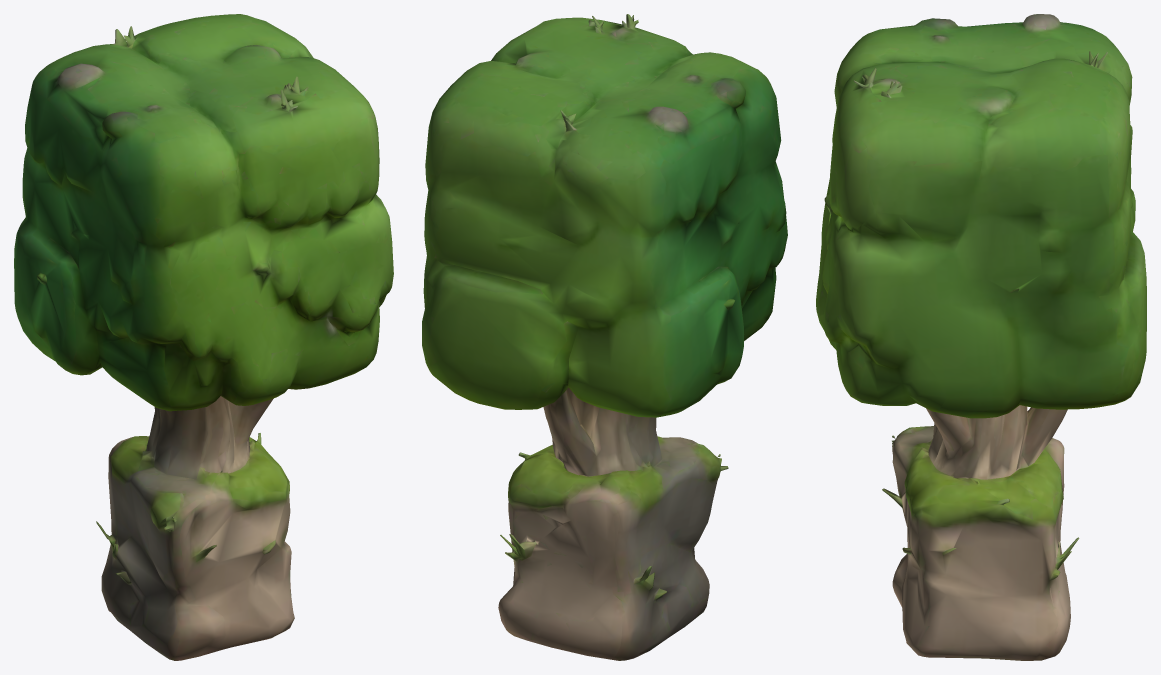
3 views of the same model, side by side, from view 1: azimuth 30°, elevation 25°; view 2: azimuth 150°, elevation 25°; view 3: azimuth 270°, elevation 25° (orthographic). The views are drawn at different scales.
Parts seen in each view (by area): view 1: world; view 2: world; view 3: world.
Boxes of the visible parts, x1,y1,x2,y2 form: world: [14, 14, 393, 660]; world: [422, 14, 787, 660]; world: [816, 14, 1146, 660].
Size of the model in its own units: 0.5354 by 1 by 0.5212.
1 material, 1 textured.
